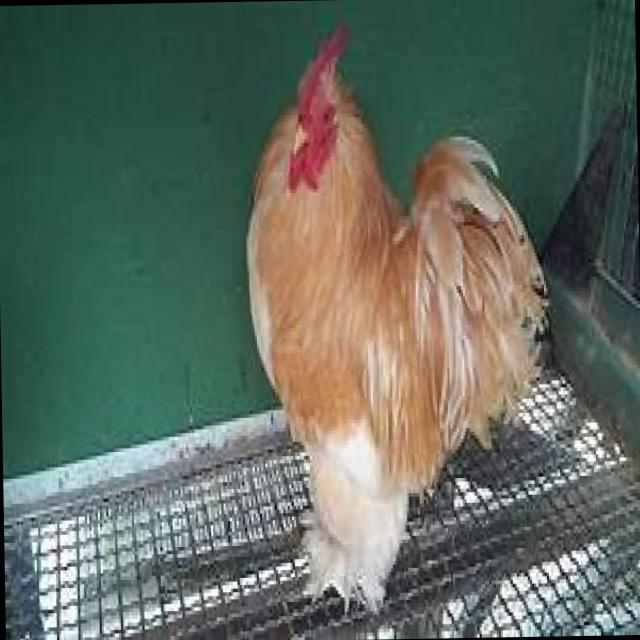animal: (242, 21, 560, 616)
